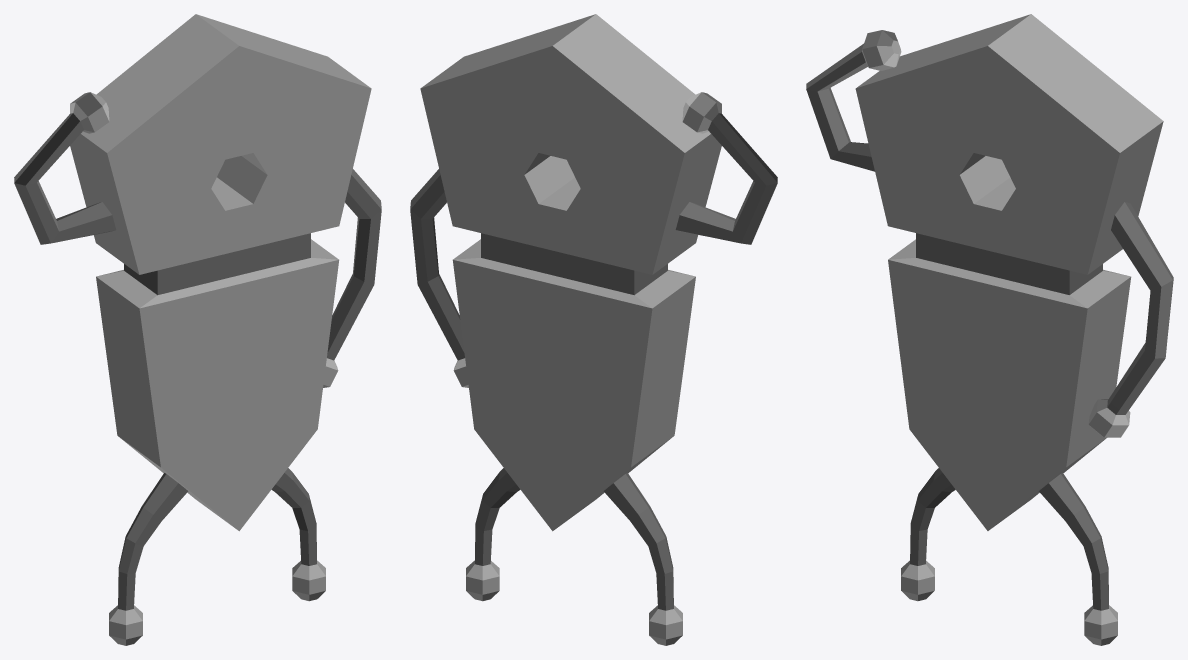
The model's file is Toeni5.glb.
The picture shows the model from 3 angles, left to right: view 1: azimuth 30°, elevation 25°; view 2: azimuth 150°, elevation 25°; view 3: azimuth 330°, elevation 25°; orthographic projection.
Parts seen in each view (by area): view 1: Toeni5; view 2: Toeni5; view 3: Toeni5.
Part boxes in pixels (<box>): Toeni5: <box>14,14,381,645</box>; Toeni5: <box>410,14,777,645</box>; Toeni5: <box>806,14,1173,645</box>.
Size of the model in its own units: 7.24 by 11.13 by 1.49.
1 material, 1 textured.
